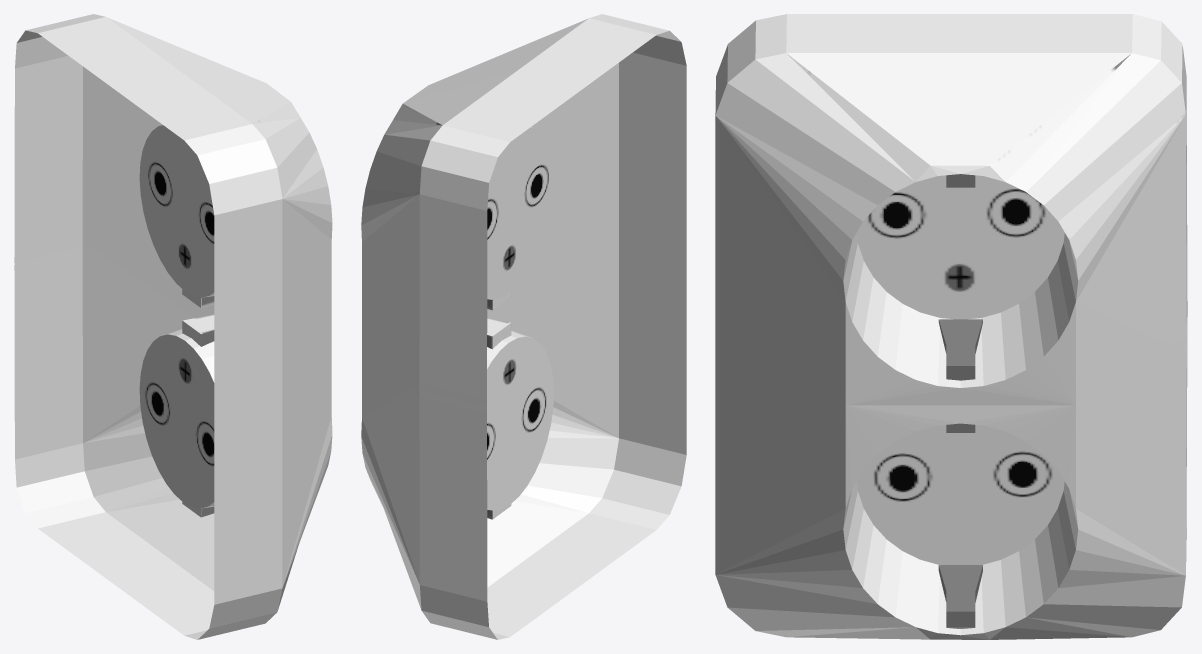
Rendered from Outlet.fbx.
3 renders of one model, left to right at view 1: azimuth 30°, elevation 25°; view 2: azimuth 150°, elevation 25°; view 3: azimuth 270°, elevation 25°, orthographic. The views are drawn at different scales.
Parts seen in each view (by area): view 1: Outlet; view 2: Outlet; view 3: Outlet.
Boxes of the visible parts, x1=… form: Outlet: x1=14, y1=14, x2=332, y2=639; Outlet: x1=361, y1=14, x2=686, y2=639; Outlet: x1=715, y1=14, x2=1187, y2=639.
Bounding box in the file's own units: 129 × 353 × 258.
Materials: 1 (1 with a texture image).
